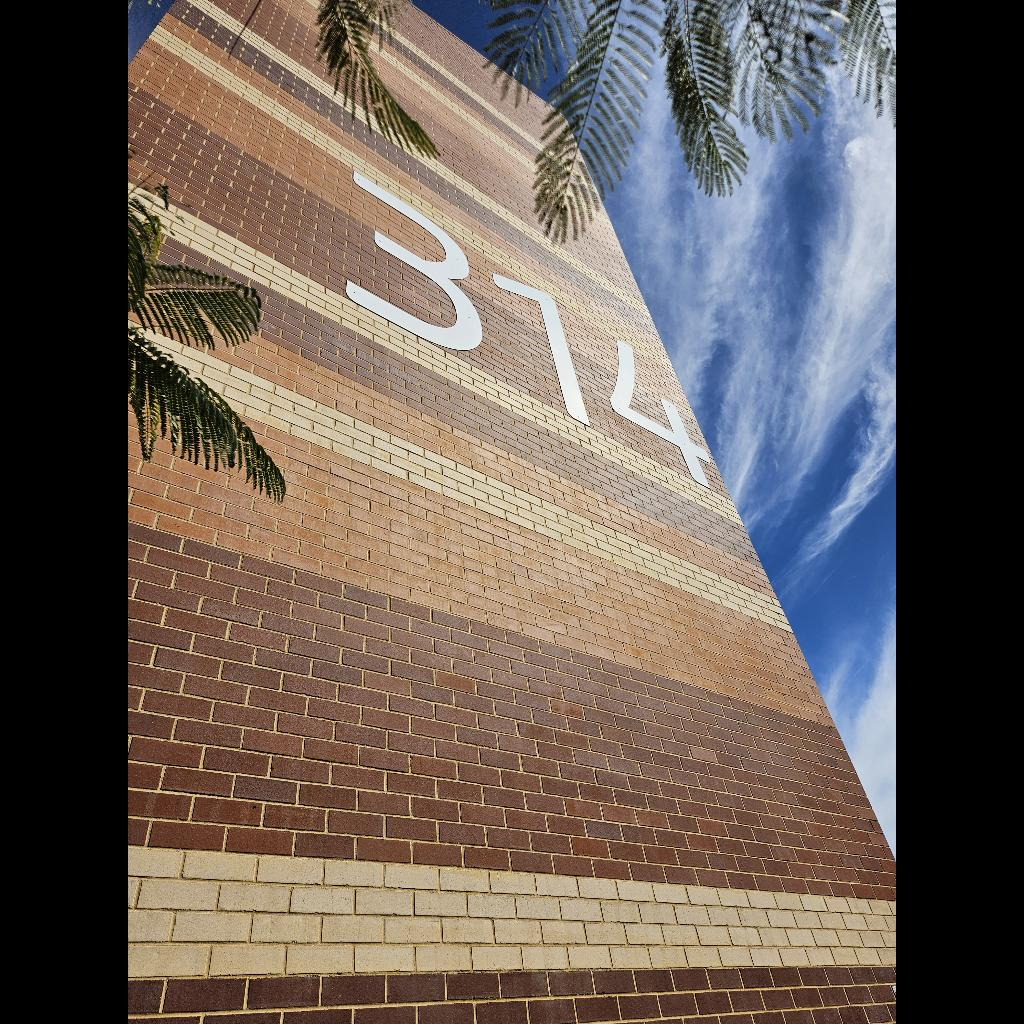BuildingCodes: (344, 168, 716, 492)
